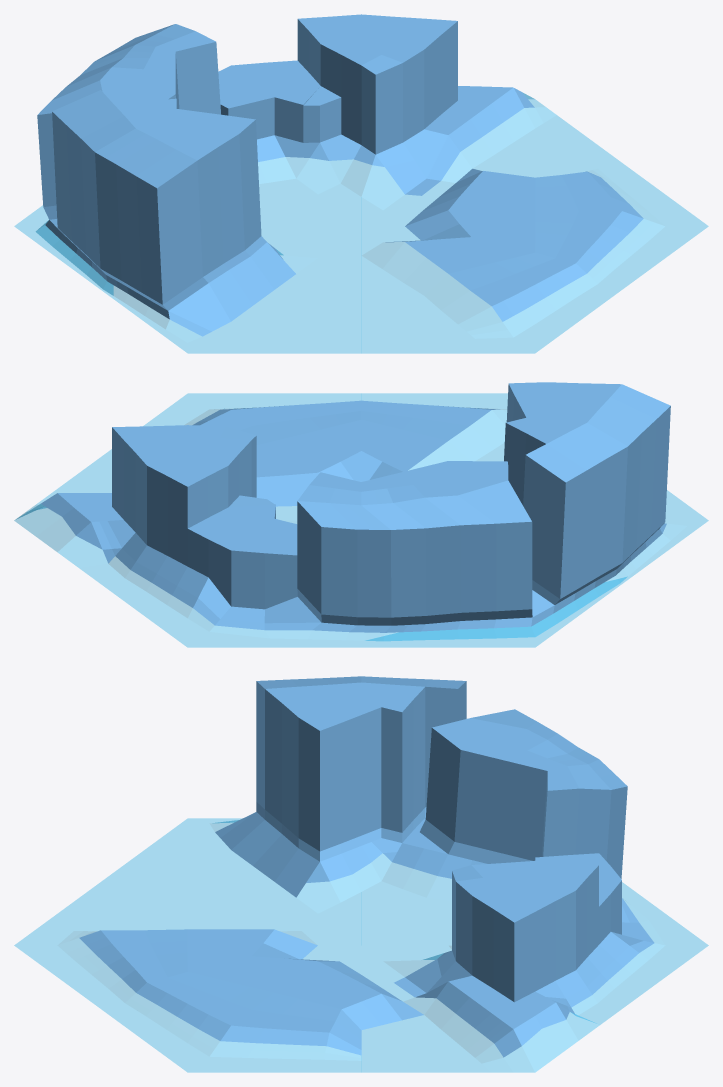
The model's file is glacier.glb.
The picture shows the model from 3 angles, top to bottom: view 1: azimuth 30°, elevation 25°; view 2: azimuth 150°, elevation 25°; view 3: azimuth 270°, elevation 25°; orthographic projection.
Parts seen in each view (by area): view 1: glaicerLowPOly; view 2: glaicerLowPOly; view 3: glaicerLowPOly.
Part boxes in pixels (x1,y1,x2,y2): glaicerLowPOly: (14, 14, 708, 353); glaicerLowPOly: (14, 382, 708, 647); glaicerLowPOly: (14, 676, 708, 1072).
Bounding box in the file's own units: 0.8758 × 0.2427 × 1.
